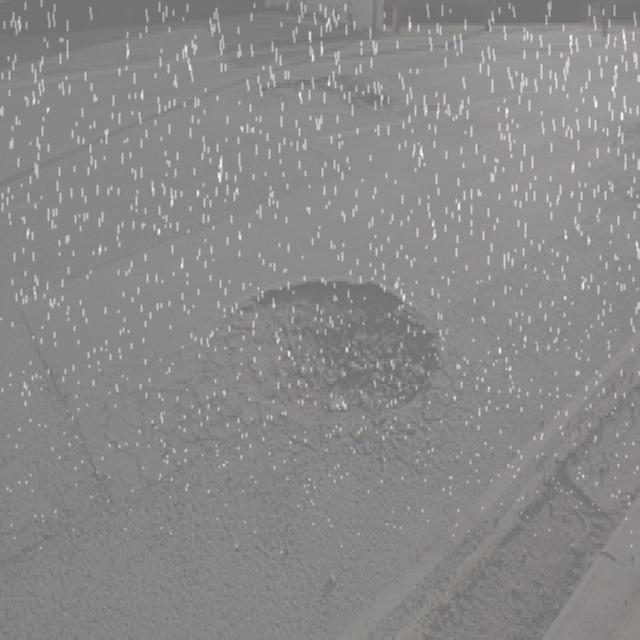Pothole: (169, 262, 472, 463), (263, 64, 391, 116)
